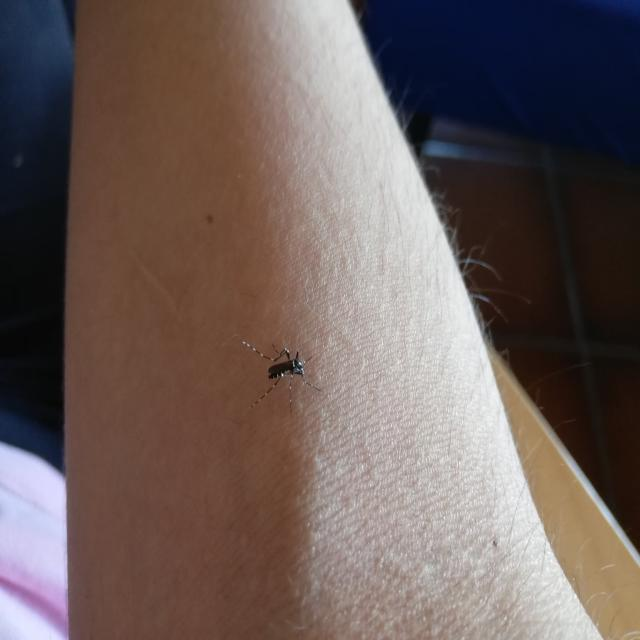albopictus: (231, 322, 327, 417)
